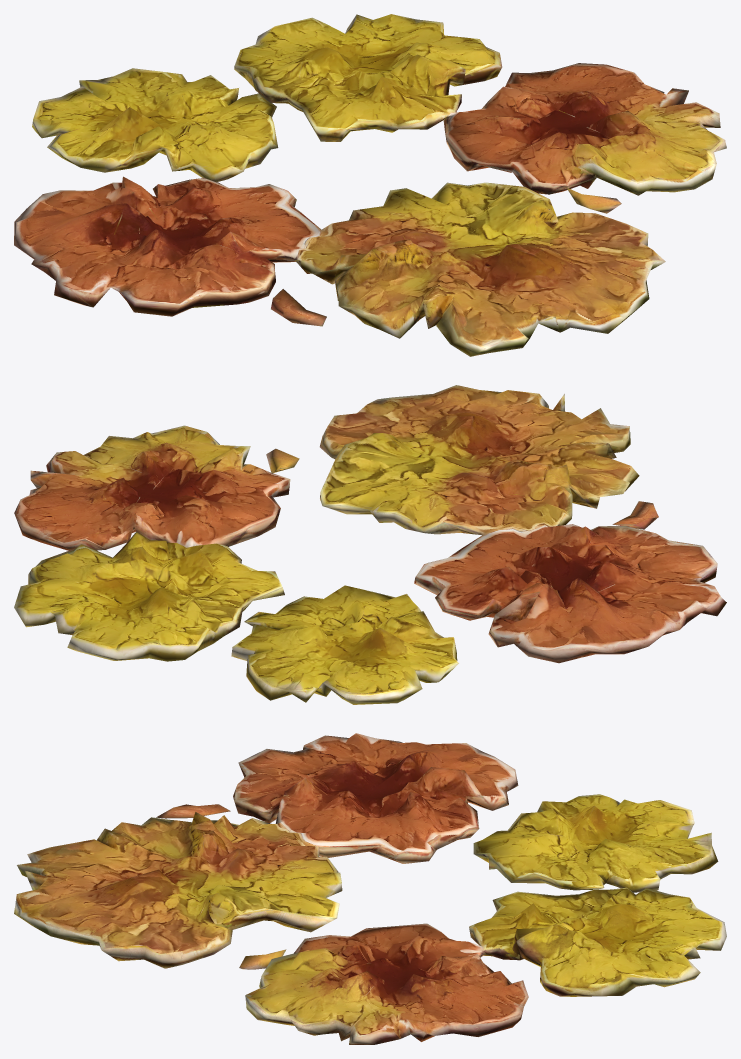
The picture shows the model from 3 angles, top to bottom: view 1: azimuth 30°, elevation 25°; view 2: azimuth 150°, elevation 25°; view 3: azimuth 270°, elevation 25°; orthographic projection. The views are drawn at different scales.
Parts seen in each view (by area): view 1: Mesh_0; view 2: Mesh_0; view 3: Mesh_0.
Part boxes in pixels (left/top/right/bottom): Mesh_0: left=14, top=14, right=726, bottom=356; Mesh_0: left=14, top=385, right=726, bottom=704; Mesh_0: left=14, top=733, right=726, bottom=1044.
Bounding box in the file's own units: 1.9 × 0.1212 × 1.88.
Materials: 1 (1 with a texture image).
